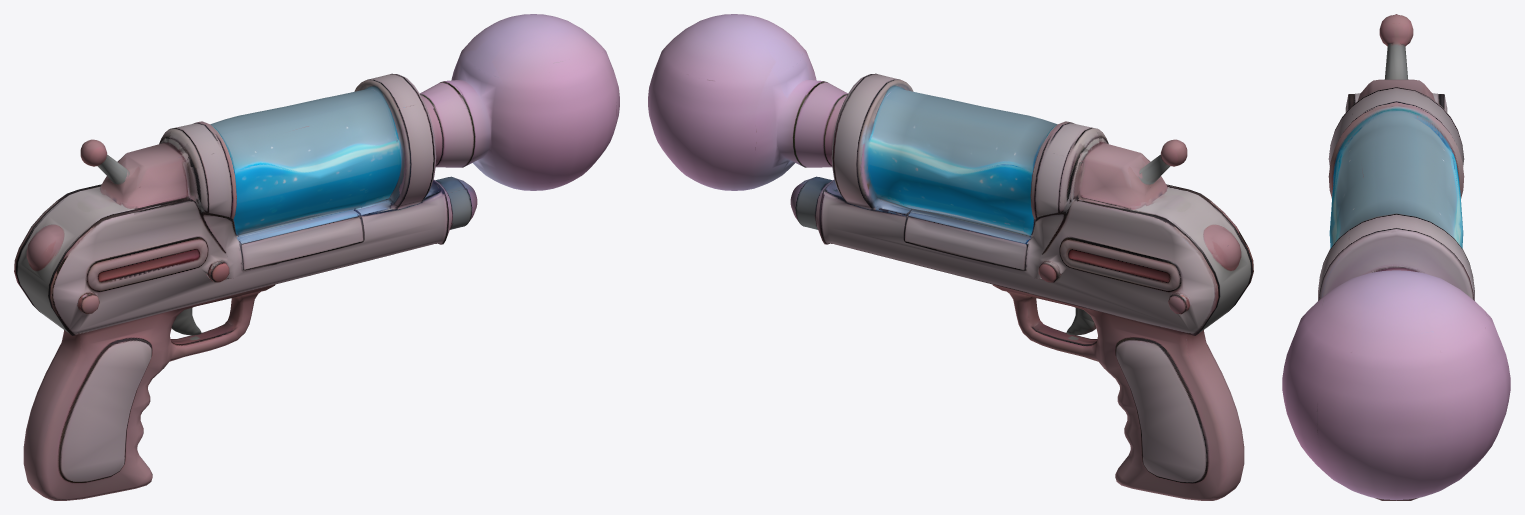
File: Arma.glb
3 views of the same model, side by side, from view 1: azimuth 30°, elevation 25°; view 2: azimuth 150°, elevation 25°; view 3: azimuth 270°, elevation 25° (orthographic). The views are drawn at different scales.
Parts seen in each view (by area): view 1: mesh_rep_0_ori_repair_quad; view 2: mesh_rep_0_ori_repair_quad; view 3: mesh_rep_0_ori_repair_quad.
Part boxes in pixels (x1,y1,x2,y2): mesh_rep_0_ori_repair_quad: (14, 14, 619, 500); mesh_rep_0_ori_repair_quad: (648, 14, 1253, 500); mesh_rep_0_ori_repair_quad: (1282, 14, 1510, 500).
Bounding box in the file's own units: 1.07 × 0.6414 × 0.2812.
1 material, 1 textured.
